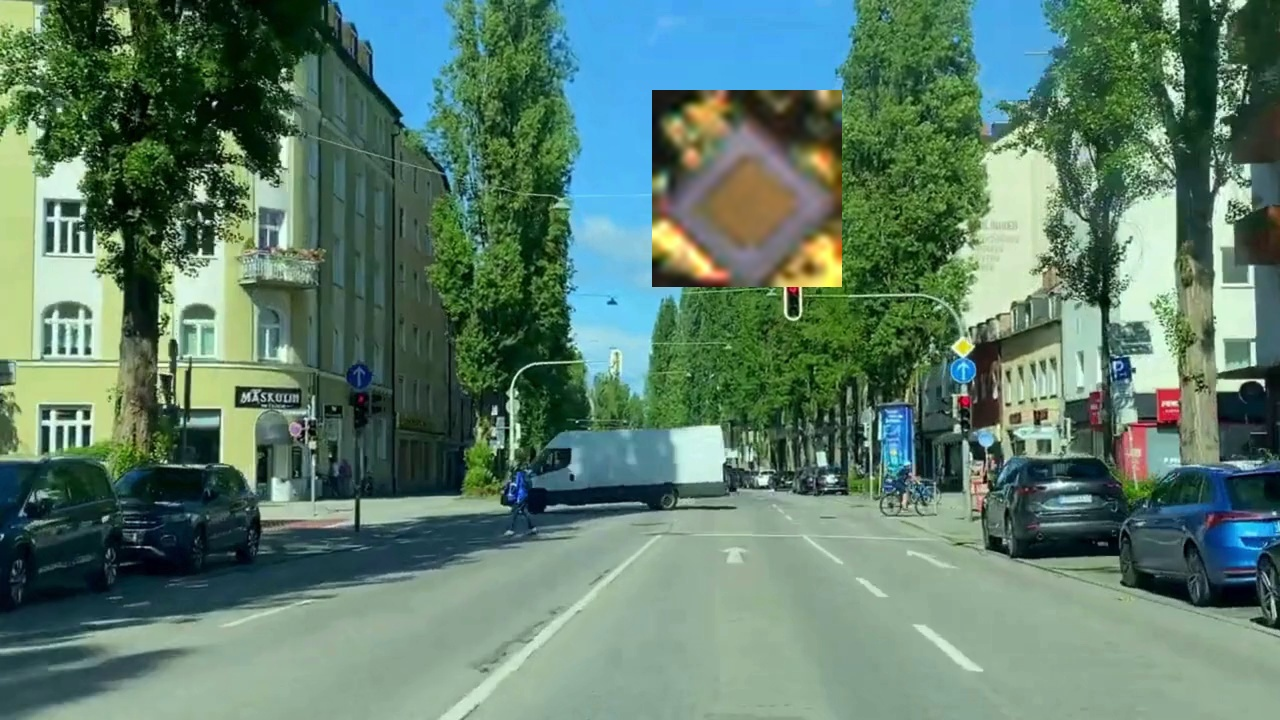Priority road: (652, 90, 842, 287)
